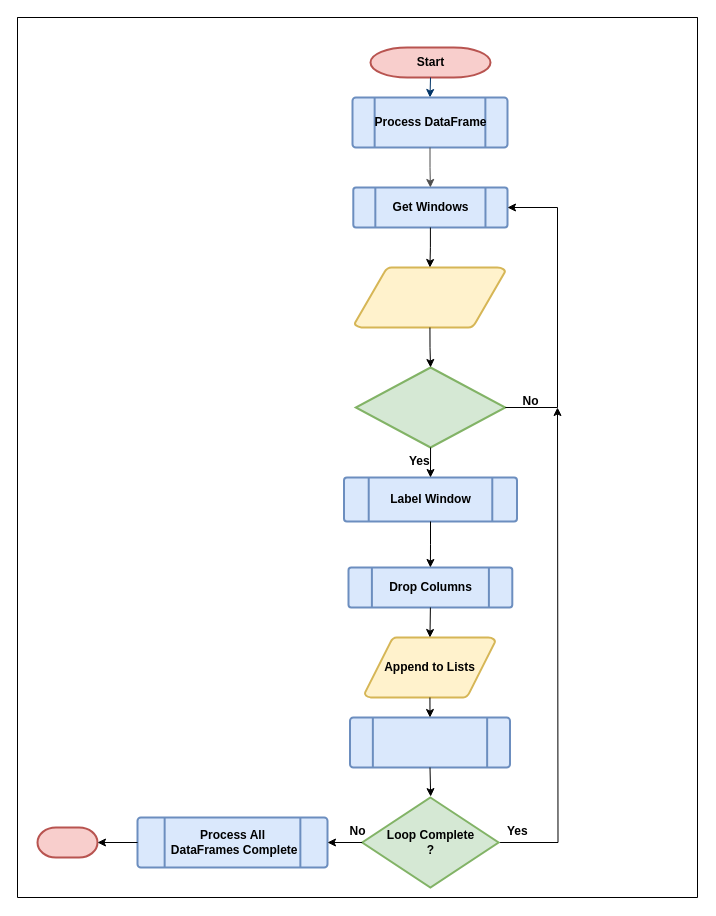
The diagram is 716 pixels wide and 916 high, and some of its shapes have lost their labels. Each missing label, with the box of its shape:
Append Window: (353, 266, 506, 328)
End: (36, 826, 98, 858)
Update Indices: (348, 716, 510, 768)
Window Appended ?: (354, 366, 506, 448)
